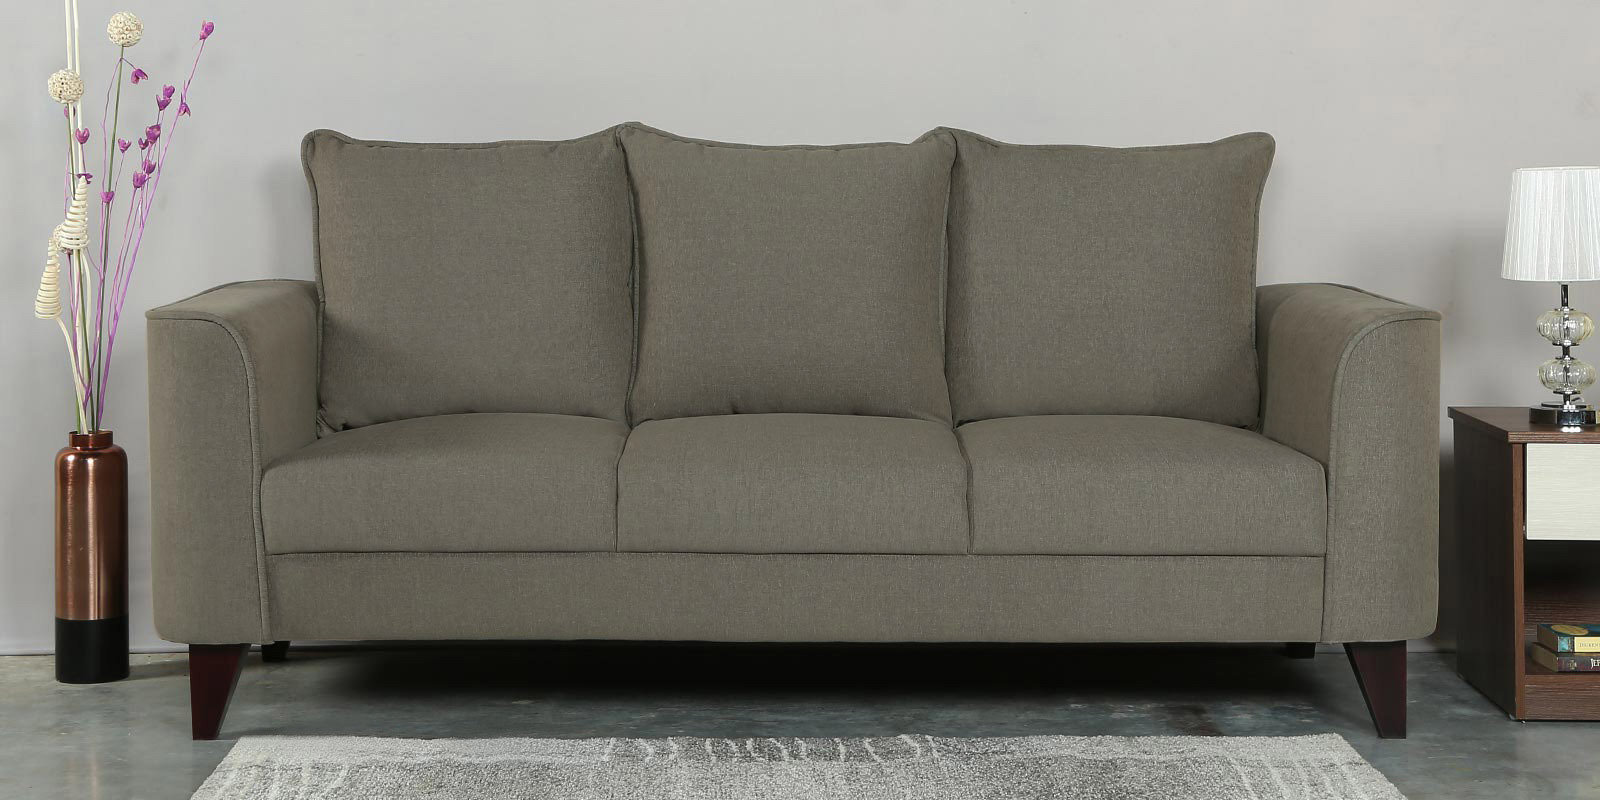Lara Three Seater Sofa in Sandy Brown Colour by CasaCraft: (144, 119, 1444, 741)
